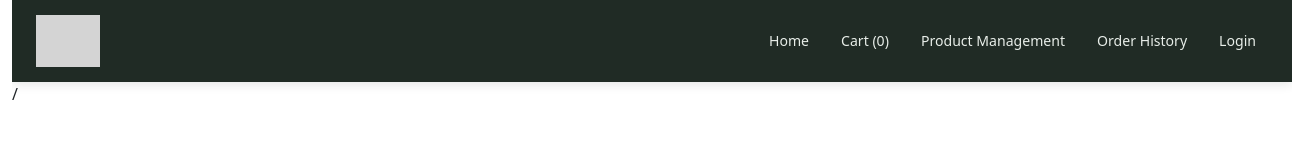
Test: NavBar navigation › navigates to Cart (0) without a document reload
The width and height of the screenshot is (1292, 160).
Click the link "Cart (0)".
click(865, 41)  # box [841,31,889,50]
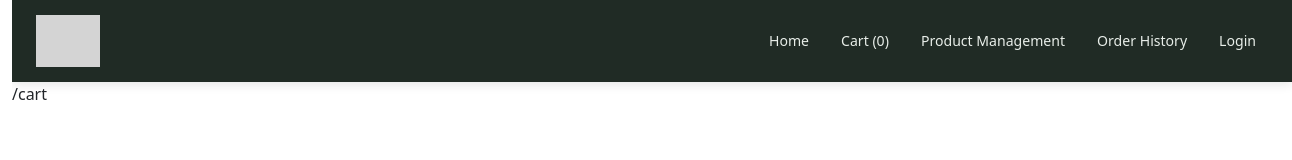
Now the text with test id "current-path" reads "/cart", box [12,83,47,105]
